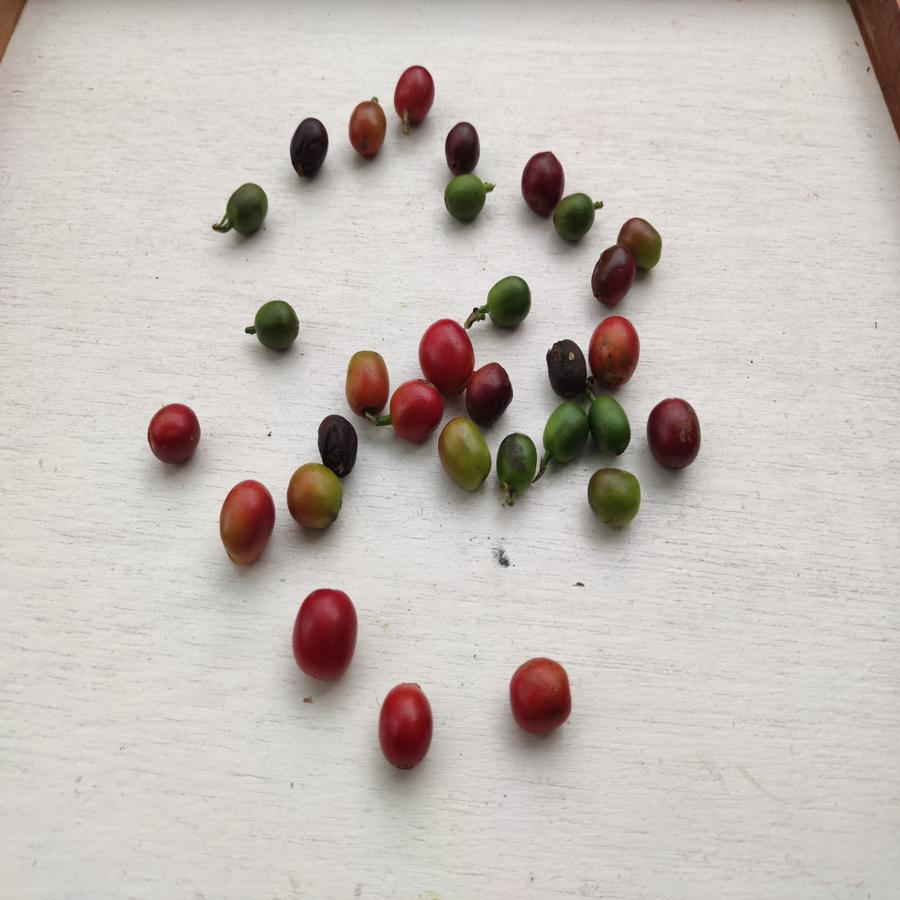Inmaduro: (589, 393, 635, 462), (249, 298, 305, 353), (492, 428, 536, 495), (483, 274, 530, 333), (544, 403, 587, 467), (221, 182, 271, 235), (440, 174, 487, 223), (553, 193, 598, 243)
Maduro: (288, 588, 358, 680), (508, 657, 575, 740), (377, 681, 434, 772), (219, 476, 276, 567), (420, 315, 477, 394), (588, 315, 643, 386), (147, 403, 202, 467), (388, 63, 438, 127), (390, 379, 439, 443)
Pinton: (286, 463, 344, 538), (438, 413, 488, 494), (589, 466, 641, 530), (345, 348, 392, 418), (346, 98, 384, 158), (622, 218, 664, 270)
Sobremaduro: (647, 392, 703, 475), (286, 116, 332, 183), (542, 334, 586, 403), (520, 147, 564, 213), (468, 363, 513, 423), (442, 118, 488, 174), (319, 414, 363, 472), (593, 243, 631, 302)
